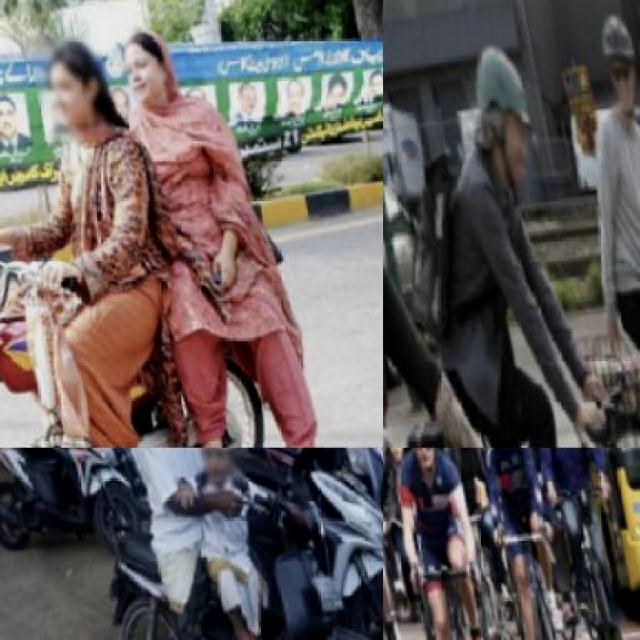With Helmet: (462, 25, 538, 198), (588, 3, 638, 128), (394, 448, 443, 477)
Without Helmet: (26, 32, 116, 150), (111, 25, 183, 120), (185, 448, 246, 498)
